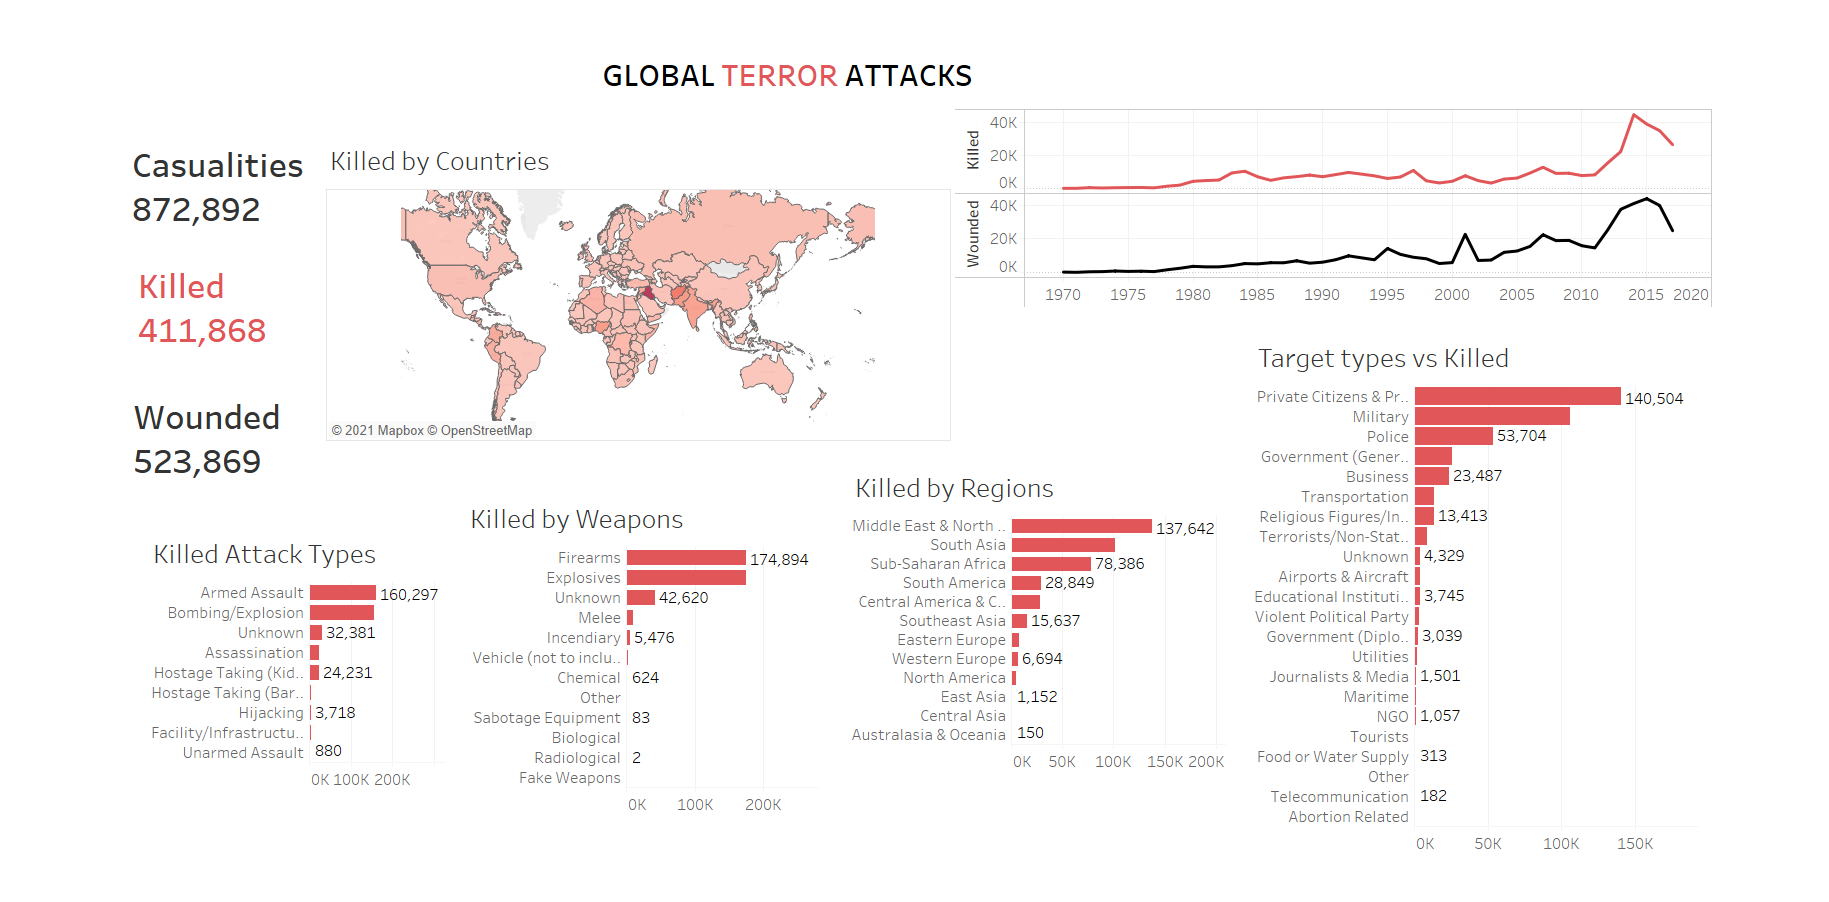

The page's visual inventory and layout, read from the dashboard file:
{"tool":"tableau","page":{"name":"Dashboard 1","canvas":[1600,900],"ordinal":0},"visuals":[{"type":"text","box":[481,17,443,84]},{"type":"worksheet","title":"wOUND AND KILLED by Year","mark":"Line","rows":["Killed","Wounded"],"cols":["Year"],"box":[837,94,757,199]},{"type":"worksheet","title":"Killed by Countries","mark":"Automatic","box":[208,124,625,302]},{"type":"worksheet","title":"Casualities","mark":"Automatic","box":[10,126,220,102]},{"type":"worksheet","title":"Killed","mark":"Automatic","box":[16,247,214,98]},{"type":"worksheet","title":"Target types vs Killed","mark":"Automatic","rows":["Target_type"],"cols":["Killed"],"box":[1136,321,444,529]},{"type":"worksheet","title":"Wounded","mark":"Automatic","box":[11,378,208,98]},{"type":"worksheet","title":"Killed by Weapons","mark":"Automatic","rows":["Weapon_type"],"cols":["Killed"],"box":[348,482,353,351]},{"type":"worksheet","title":"Killed Attack Types","mark":"Automatic","rows":["AttackType"],"cols":["Killed"],"box":[31,517,297,301]}]}

Visuals, with their boxes on the page's 1600x900 design canvas (x1, y1, x2, y2). These are canvas units, not pixel positions in the 1829x902 screenshot, which may show the page scaled, cropped or inside an application window:
text: left=481, top=17, right=924, bottom=101
"wOUND AND KILLED by Year" worksheet (Line marks): left=837, top=94, right=1594, bottom=293
"Killed by Countries" worksheet: left=208, top=124, right=833, bottom=426
"Casualities" worksheet: left=10, top=126, right=230, bottom=228
"Killed" worksheet: left=16, top=247, right=230, bottom=345
"Target types vs Killed" worksheet: left=1136, top=321, right=1580, bottom=850
"Wounded" worksheet: left=11, top=378, right=219, bottom=476
"Killed by Weapons" worksheet: left=348, top=482, right=701, bottom=833
"Killed Attack Types" worksheet: left=31, top=517, right=328, bottom=818
